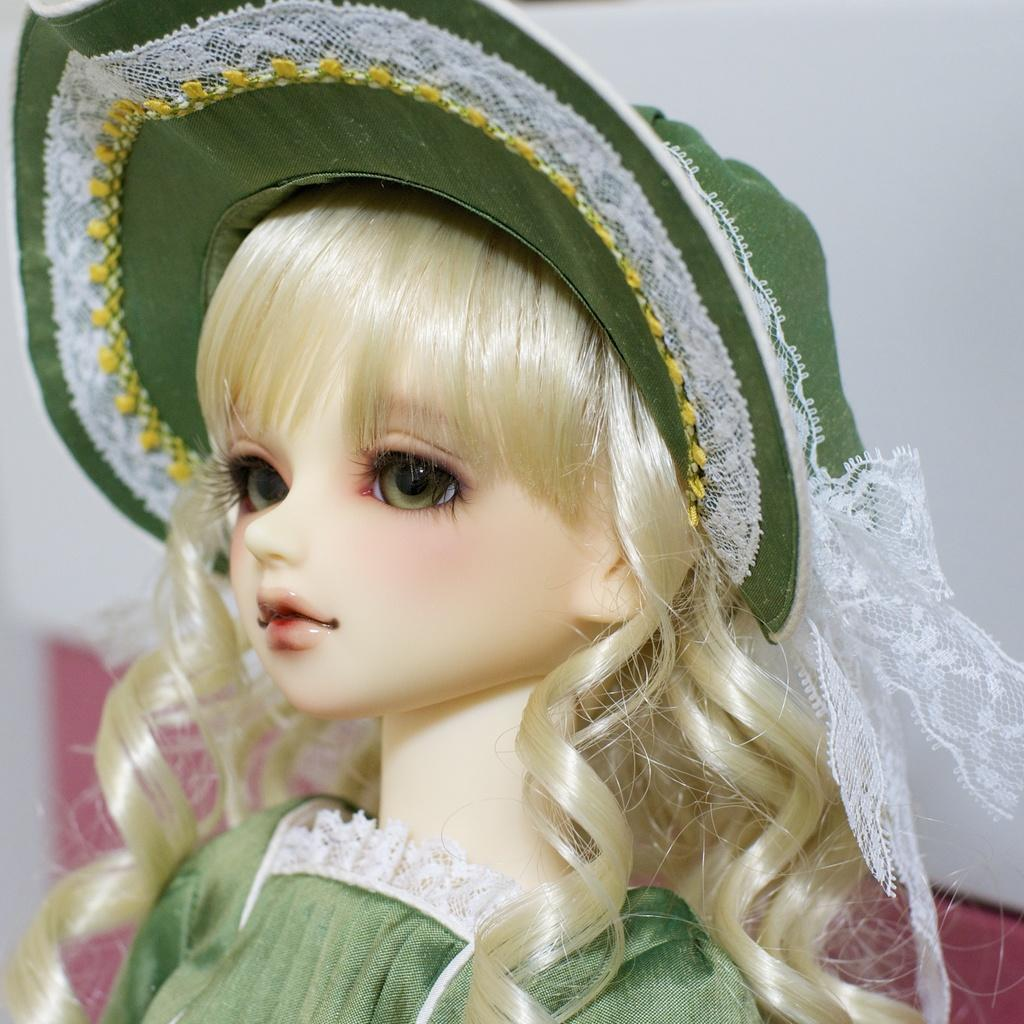Hat: (11, 0, 1023, 1023)
